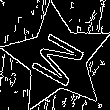M_SE: (24, 26, 90, 91)
